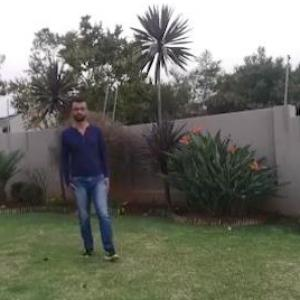follow: (66, 101, 110, 247)
